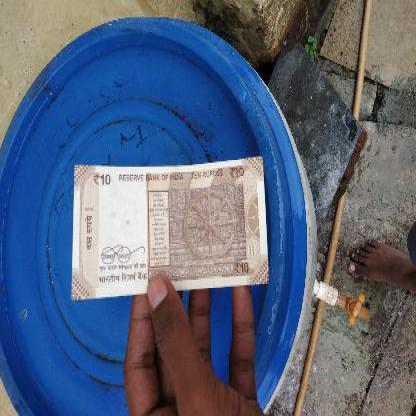New10Back: (74, 163, 264, 285)
